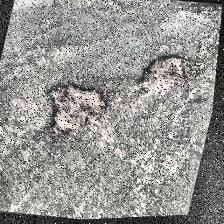pothole: (40, 78, 114, 138), (136, 50, 206, 104), (185, 3, 223, 26)
